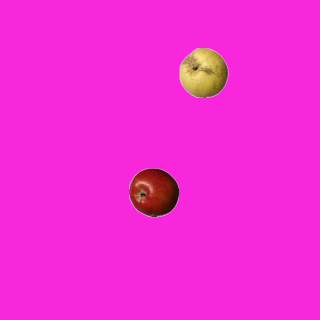Apple Braeburn: (128, 167, 178, 217)
Apple Golden 1: (178, 47, 228, 97)
